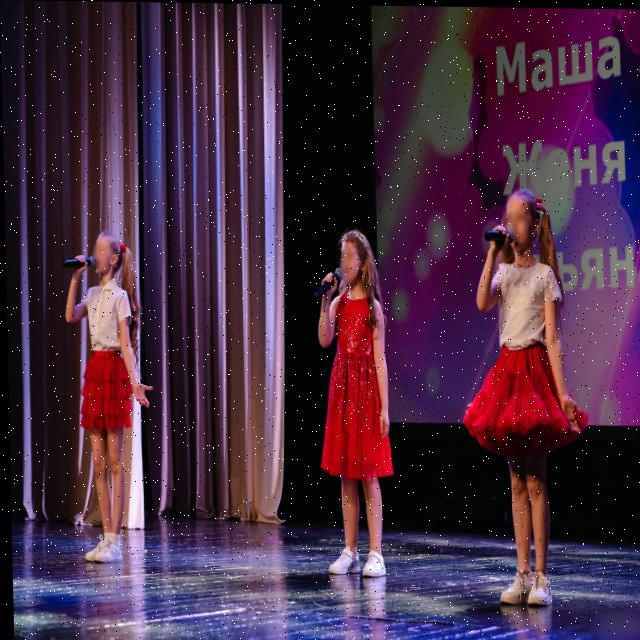Person: (467, 163, 592, 616), (51, 226, 163, 578), (307, 217, 401, 587)
